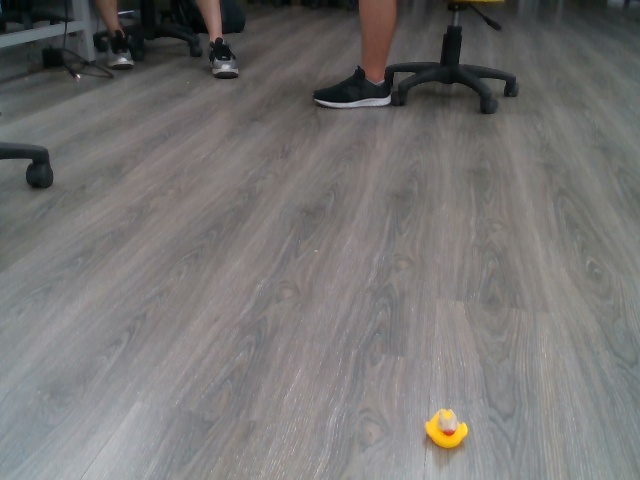duck: (420, 405, 470, 449)
